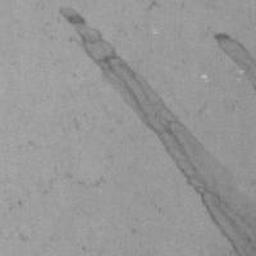Water spot: (60, 8, 256, 256), (214, 33, 256, 92)
